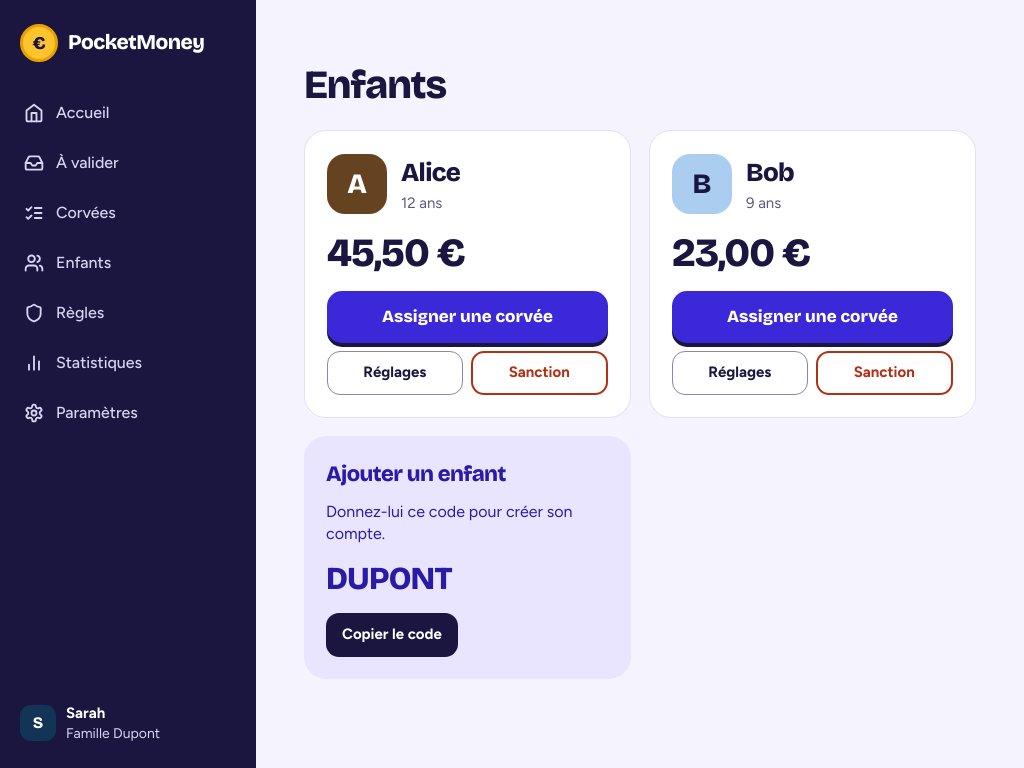
Test: sanctions (parent) › applique la règle choisie, sans proposer les règles inactives
This screenshot has width=1024, height=768.
Later steps or results of the test are not shown.
What coordinates should you click on to do the following:
click the button "Sanction" below "45,50 €"
I would click on:
 (539, 372)
Its box is [470,350,608,394].
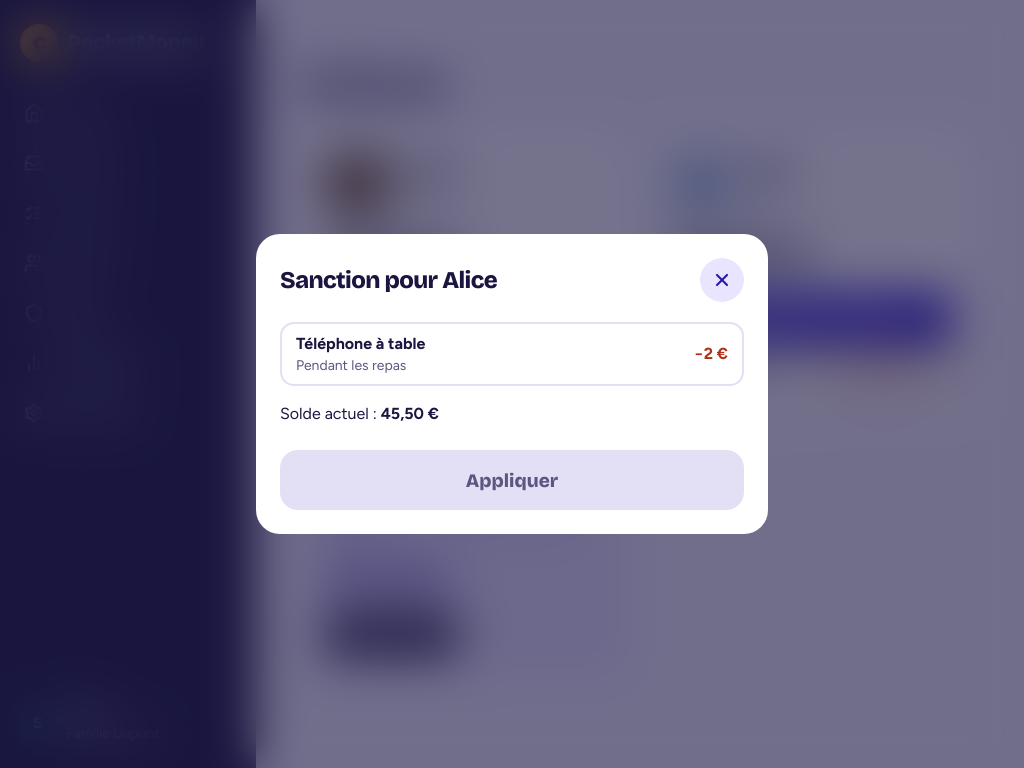
Check: the button "Appliquer" is disabled, box [280,450,744,510]
